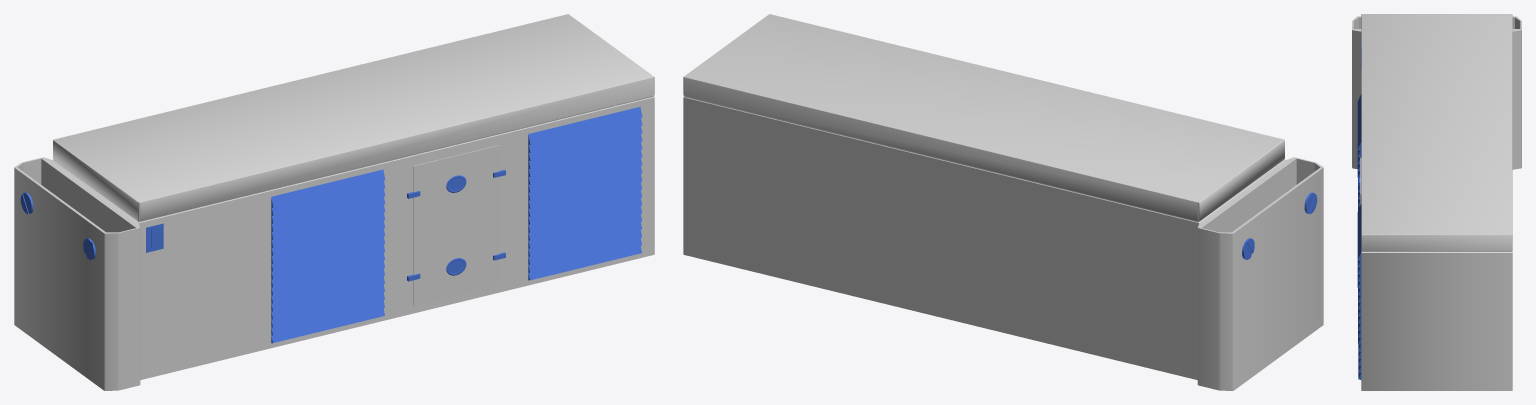
The model's file is table1.fbx.
3 views of the same model, side by side, from view 1: azimuth 30°, elevation 25°; view 2: azimuth 150°, elevation 25°; view 3: azimuth 270°, elevation 25° (orthographic). The views are drawn at different scales.
Parts seen in each view (by area): view 1: Cube.007, Cube.006, Cube.005, Cylinder.001; view 2: Cube.007; view 3: Cube.007, Cube.006.
Part boxes in pixels (x1=…): Cube.007: x1=14, y1=14, x2=654, y2=390; Cube.006: x1=271, y1=106, x2=642, y2=343; Cube.005: x1=413, y1=145, x2=499, y2=305; Cylinder.001: x1=446, y1=175, x2=466, y2=275; Cube.007: x1=683, y1=14, x2=1323, y2=390; Cube.007: x1=1352, y1=14, x2=1521, y2=390; Cube.006: x1=1357, y1=94, x2=1361, y2=379.
Size of the model in its own units: 1485 by 455 by 448.
